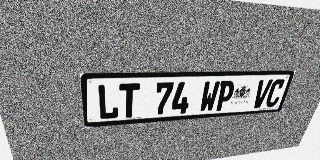4: (171, 82, 192, 114)
7: (153, 82, 174, 116)
C: (264, 79, 286, 107)
L: (97, 84, 119, 120)
P: (214, 80, 236, 111)
T: (119, 83, 140, 118)
V: (251, 79, 273, 108)
W: (198, 81, 221, 112)
